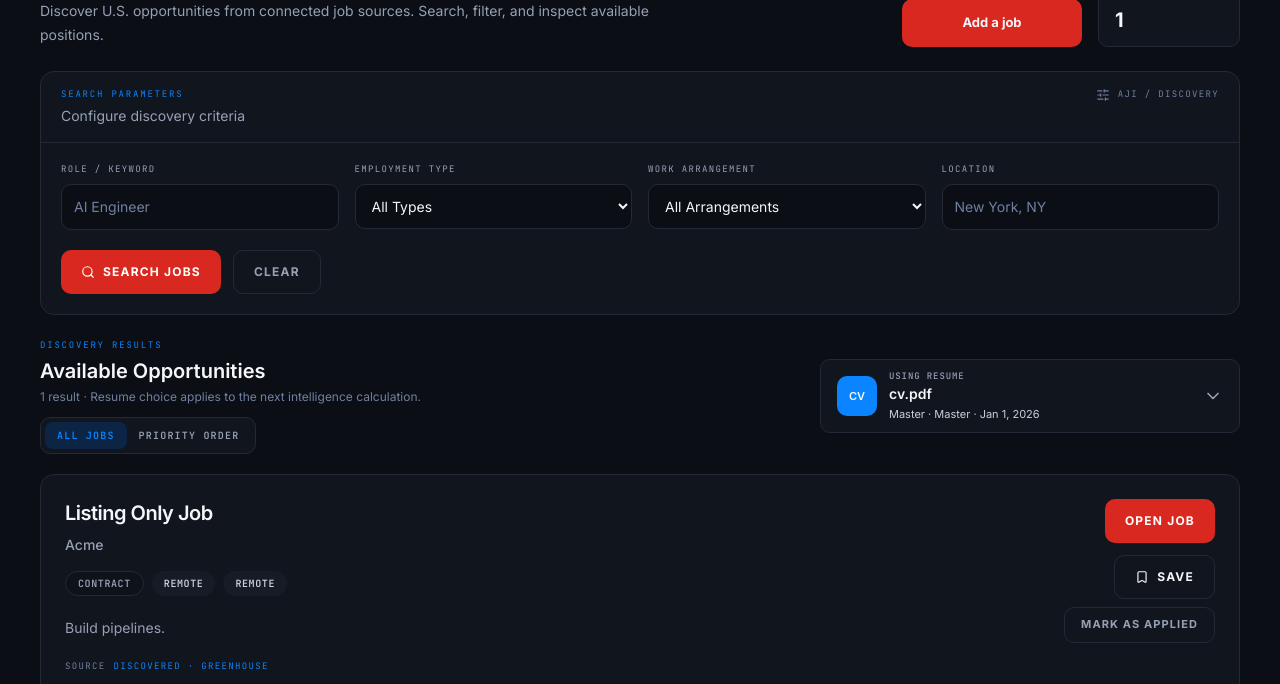
Scenario: Jobs page — Priority view (AJI-025) › shows an error with a working retry
Expected: the heading "Listing Only Job" is shown, [65, 500, 213, 524]
Click the button "Priority order" at (189, 435), box [127, 422, 251, 448]
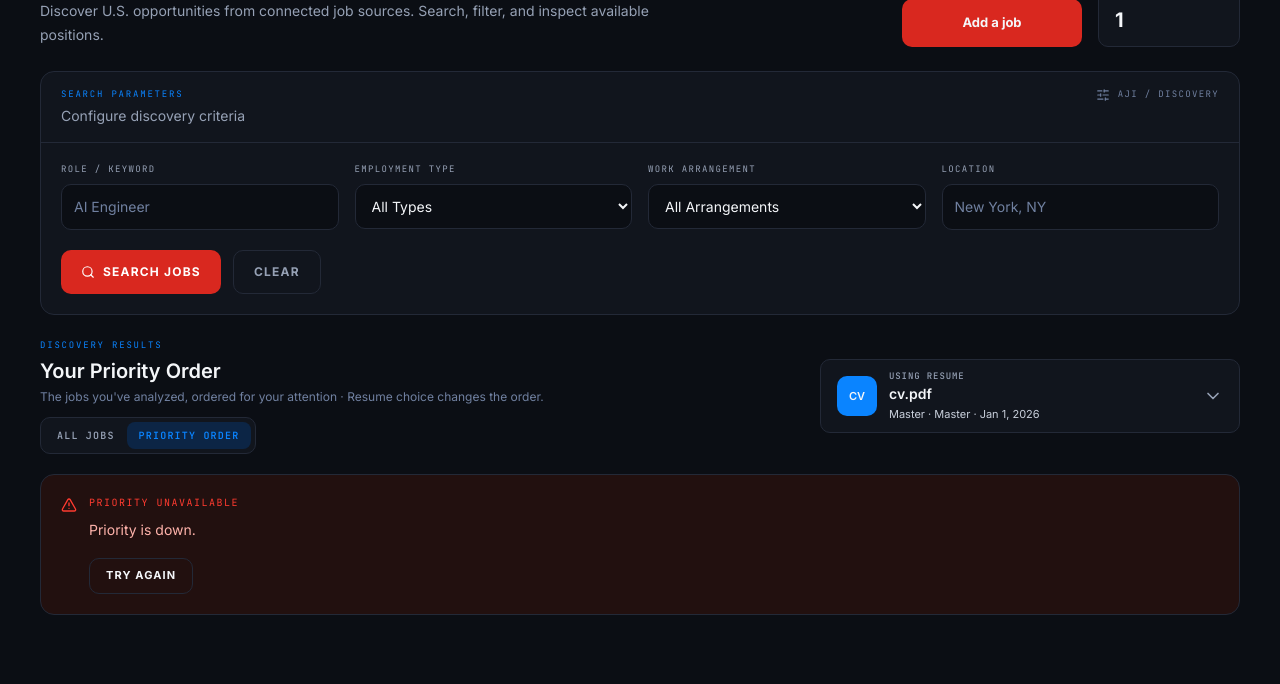
Expected: the message shows "Priority is down.", [89, 520, 196, 538]
Click the button "Try Again" at (141, 576), box [89, 558, 193, 594]
(page scrolled)
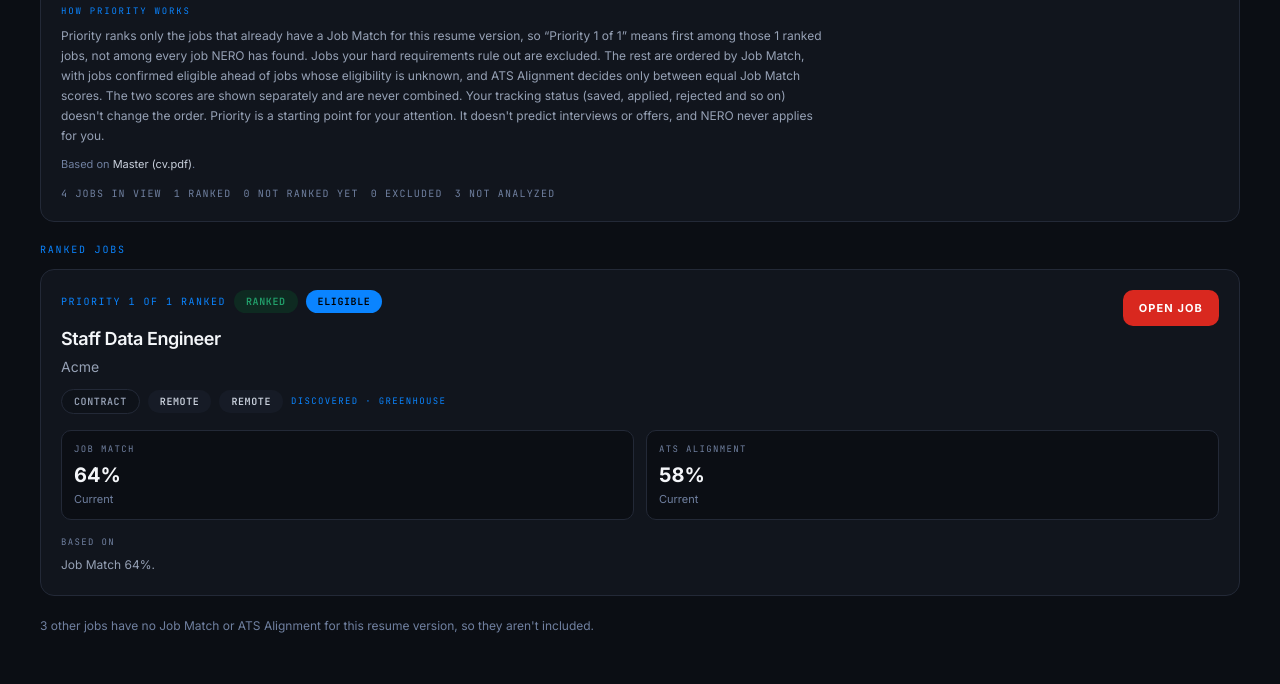
Expected: the element "Staff Data Engineer" is shown, [40, 269, 1240, 596]
